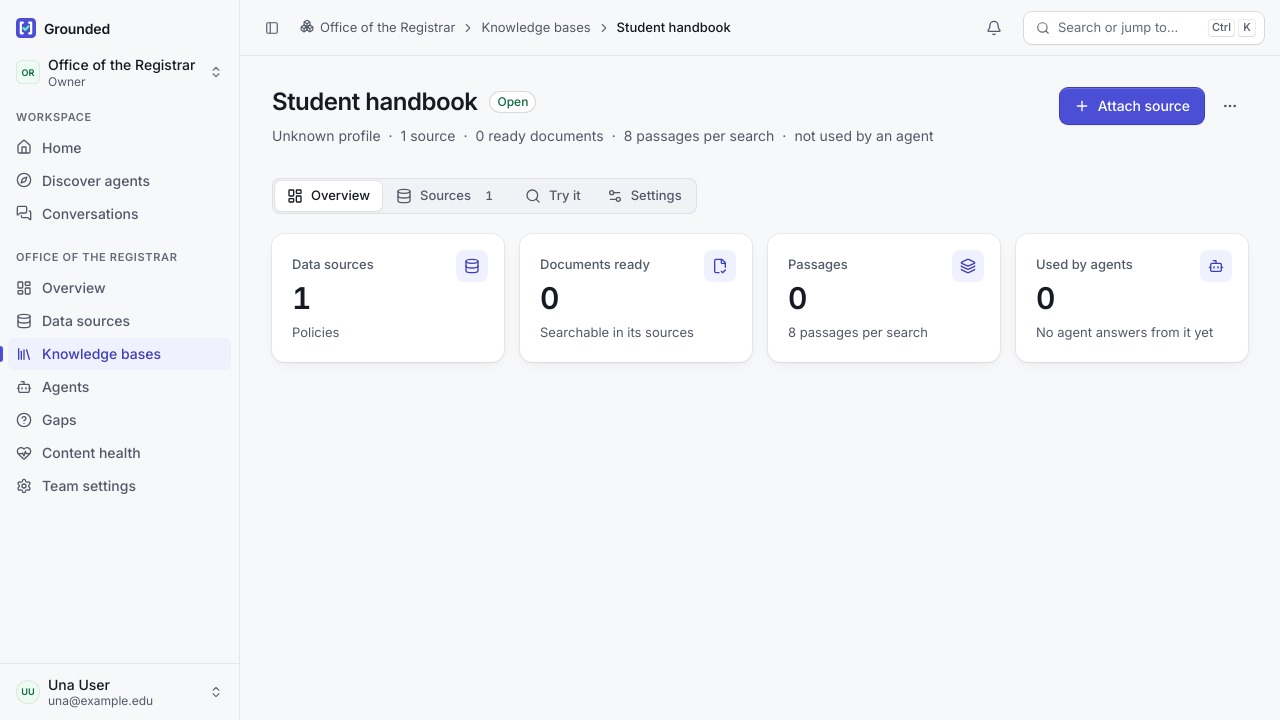
it: The knowledge base's menu › does not offer it to a team owner who is not a platform admin
Click the button named "More actions": (1230, 106) [1212,88,1248,124]
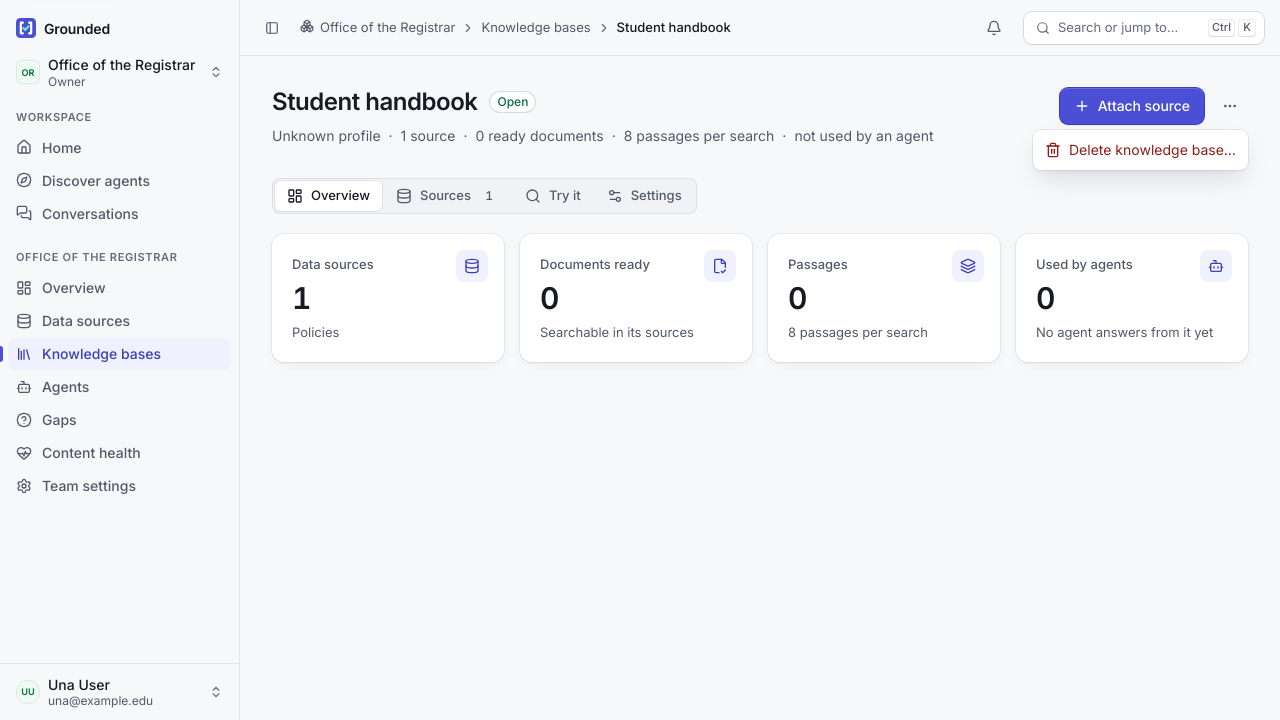
Result: the menu item "Delete knowledge base…" is shown at [1045,141,1236,158]
